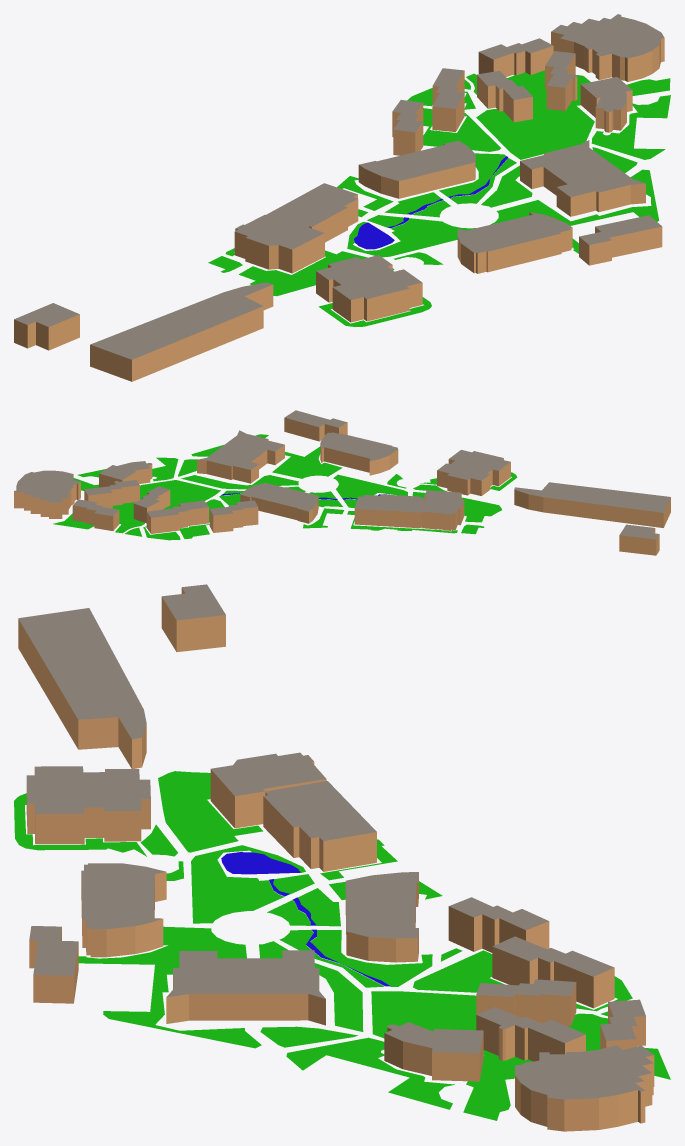
The model's file is OkanUni.fbx.
The picture shows the model from 3 angles, top to bottom: view 1: azimuth 30°, elevation 25°; view 2: azimuth 150°, elevation 25°; view 3: azimuth 270°, elevation 25°; orthographic projection. The views are drawn at different scales.
Visible parts, largest first — view 1: Okan Üniversitesi Tıp Fakültesi, element, element.021, element.006, Sanat, Tasarım ve Mimarlık Fakültesi, Mühendislik Fakültesi, Hukuk Fakültesi, Okan Spor Salonu, Okan Yaşam Merkezi, O'Mutfak, element.007, Rektörlük (+15 smaller); view 2: Okan Üniversitesi Tıp Fakültesi, element, element.006, Sanat, Tasarım ve Mimarlık Fakültesi, Mühendislik Fakültesi, Okan Yaşam Merkezi, element.021, Hukuk Fakültesi, Okan Spor Salonu, element.004, element.020, O'Mutfak (+15 smaller); view 3: Okan Üniversitesi Tıp Fakültesi, element.006, element, Sanat, Tasarım ve Mimarlık Fakültesi, Okan Yaşam Merkezi, element.021, Mühendislik Fakültesi, Hukuk Fakültesi, element.020, Okan Spor Salonu, element.004, Rektörlük (+17 smaller).
Part boxes in pixels (x1,y1,x2,y2): Okan Üniversitesi Tıp Fakültesi: (90, 282, 273, 381); element: (520, 140, 645, 216); element.021: (466, 70, 670, 159); element.006: (551, 14, 664, 81); Sanat, Tasarım ve Mimarlık Fakültesi: (316, 255, 422, 322); Mühendislik Fakültesi: (457, 212, 572, 273); Hukuk Fakültesi: (358, 140, 475, 198); Okan Spor Salonu: (234, 214, 324, 273); Okan Yaşam Merkezi: (266, 183, 358, 242); O'Mutfak: (579, 215, 662, 265); element.007: (14, 303, 79, 350); Rektörlük: (580, 77, 632, 132); Okan Üniversitesi Tıp Fakültesi: (514, 482, 670, 527); element: (197, 430, 284, 483); element.006: (14, 470, 80, 518); Sanat, Tasarım ve Mimarlık Fakültesi: (437, 450, 510, 495); Mühendislik Fakültesi: (320, 432, 398, 475); Okan Yaşam Merkezi: (354, 494, 425, 528); element.021: (53, 478, 220, 533); Hukuk Fakültesi: (240, 483, 318, 523); Okan Spor Salonu: (421, 490, 464, 530); element.004: (146, 500, 208, 533); element.020: (191, 434, 342, 478); O'Mutfak: (284, 410, 347, 441); Okan Üniversitesi Tıp Fakültesi: (18, 608, 146, 768); element.006: (515, 1045, 654, 1131); element: (166, 950, 325, 1025); Sanat, Tasarım ve Mimarlık Fakültesi: (26, 766, 150, 844); Okan Yaşam Merkezi: (263, 781, 376, 871); element.021: (371, 991, 670, 1120); Mühendislik Fakültesi: (81, 863, 166, 957); Hukuk Fakültesi: (345, 872, 418, 962); element.020: (78, 926, 261, 1048); Okan Spor Salonu: (210, 752, 326, 828); element.004: (492, 936, 614, 1008); Rektörlük: (384, 1022, 483, 1081).
Bounding box in the file's own units: 60398 × 1878 × 32531.
